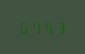five: (42, 20, 53, 34)
four: (30, 20, 41, 34)
six: (18, 20, 29, 34)
three: (54, 20, 65, 34)
